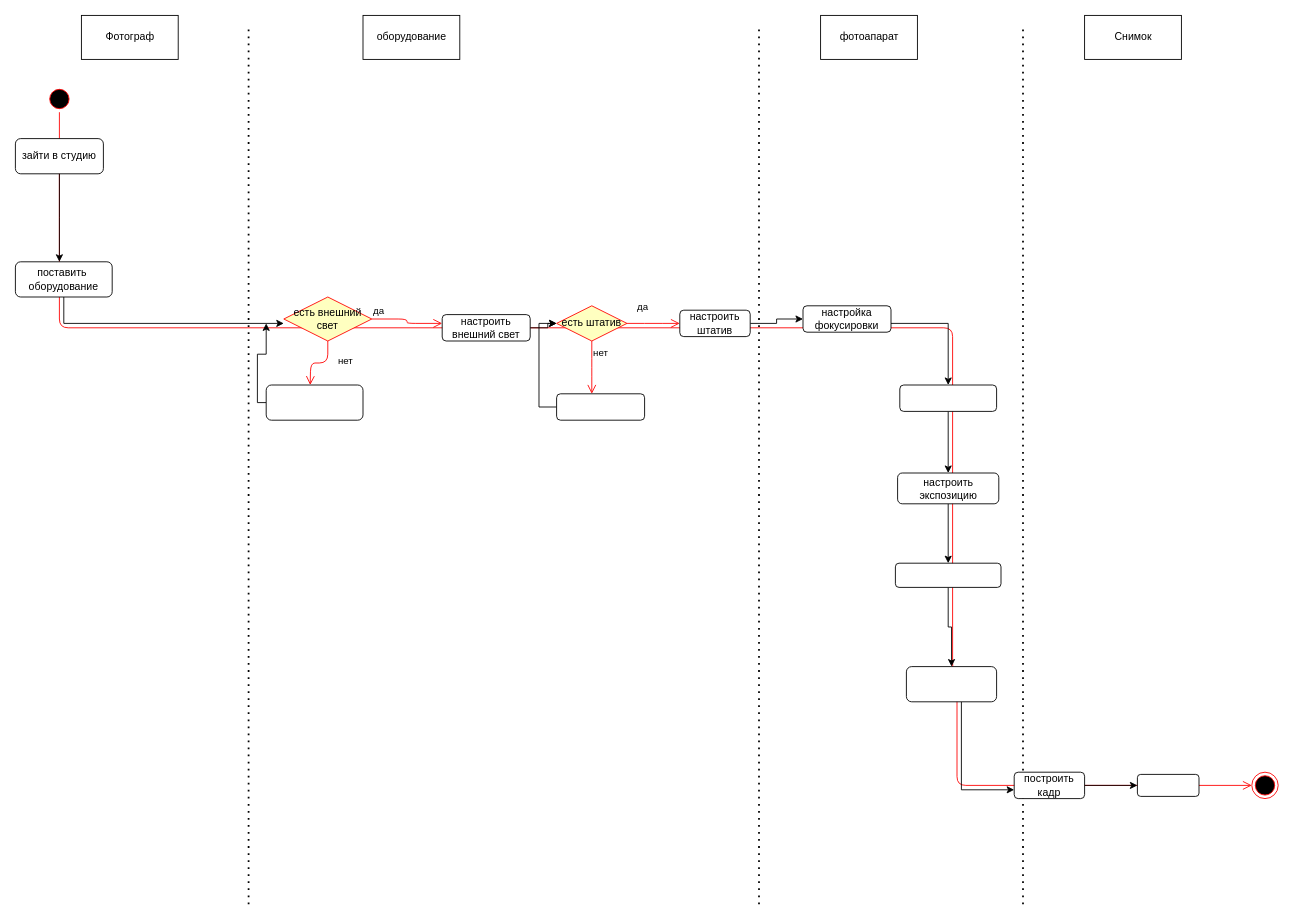
This 1294x921 diagram has some shape labels left out. Here are the shapes that lost their labels. From the top down, the centre of each, then its label:
(x=314, y=402): поставить оборудование для света
(x=600, y=406): поставить штатив
(x=948, y=397): настроить баланс белого
(x=948, y=574): поставить выдержку
(x=951, y=684): настроить световую чувствительность
(x=1168, y=785): сделать снимок
